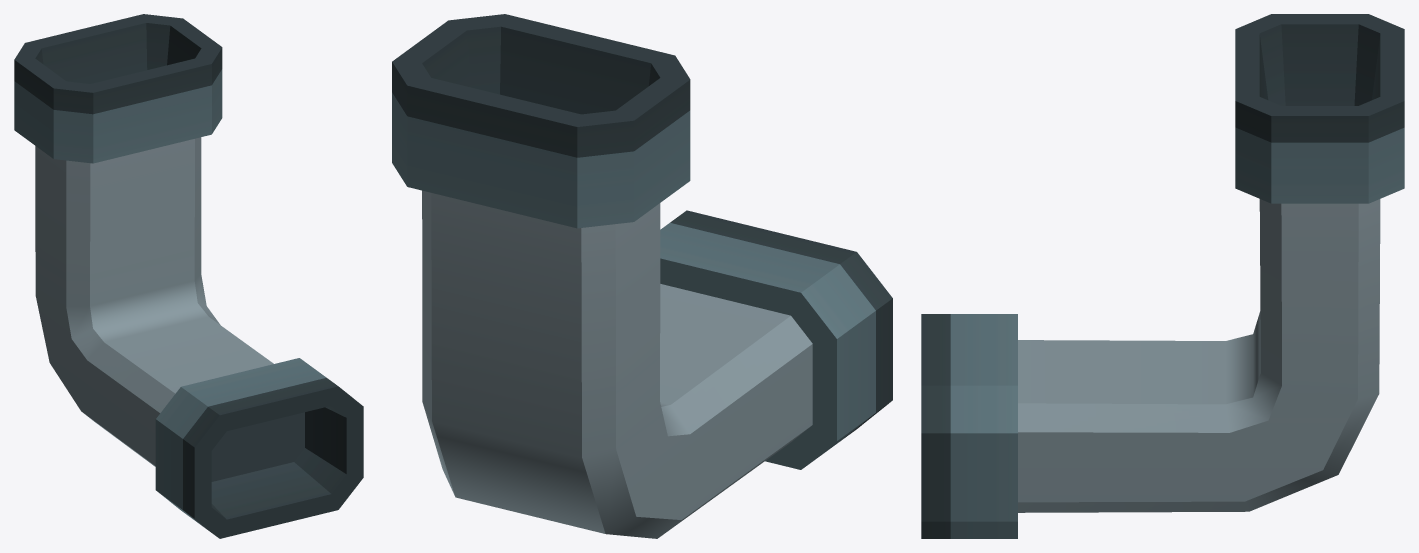
File: Vent_tube_005.fbx
3 renders of one model, left to right at view 1: azimuth 30°, elevation 25°; view 2: azimuth 150°, elevation 25°; view 3: azimuth 270°, elevation 25°, orthographic. The views are drawn at different scales.
Visible parts, largest first — view 1: Vent_tube_005; view 2: Vent_tube_005; view 3: Vent_tube_005.
Boxes of the visible parts, x1,y1,x2,y2 form: Vent_tube_005: [14, 14, 363, 538]; Vent_tube_005: [392, 14, 892, 538]; Vent_tube_005: [921, 14, 1404, 538].
Size of the model in its own units: 50 by 100 by 100.
